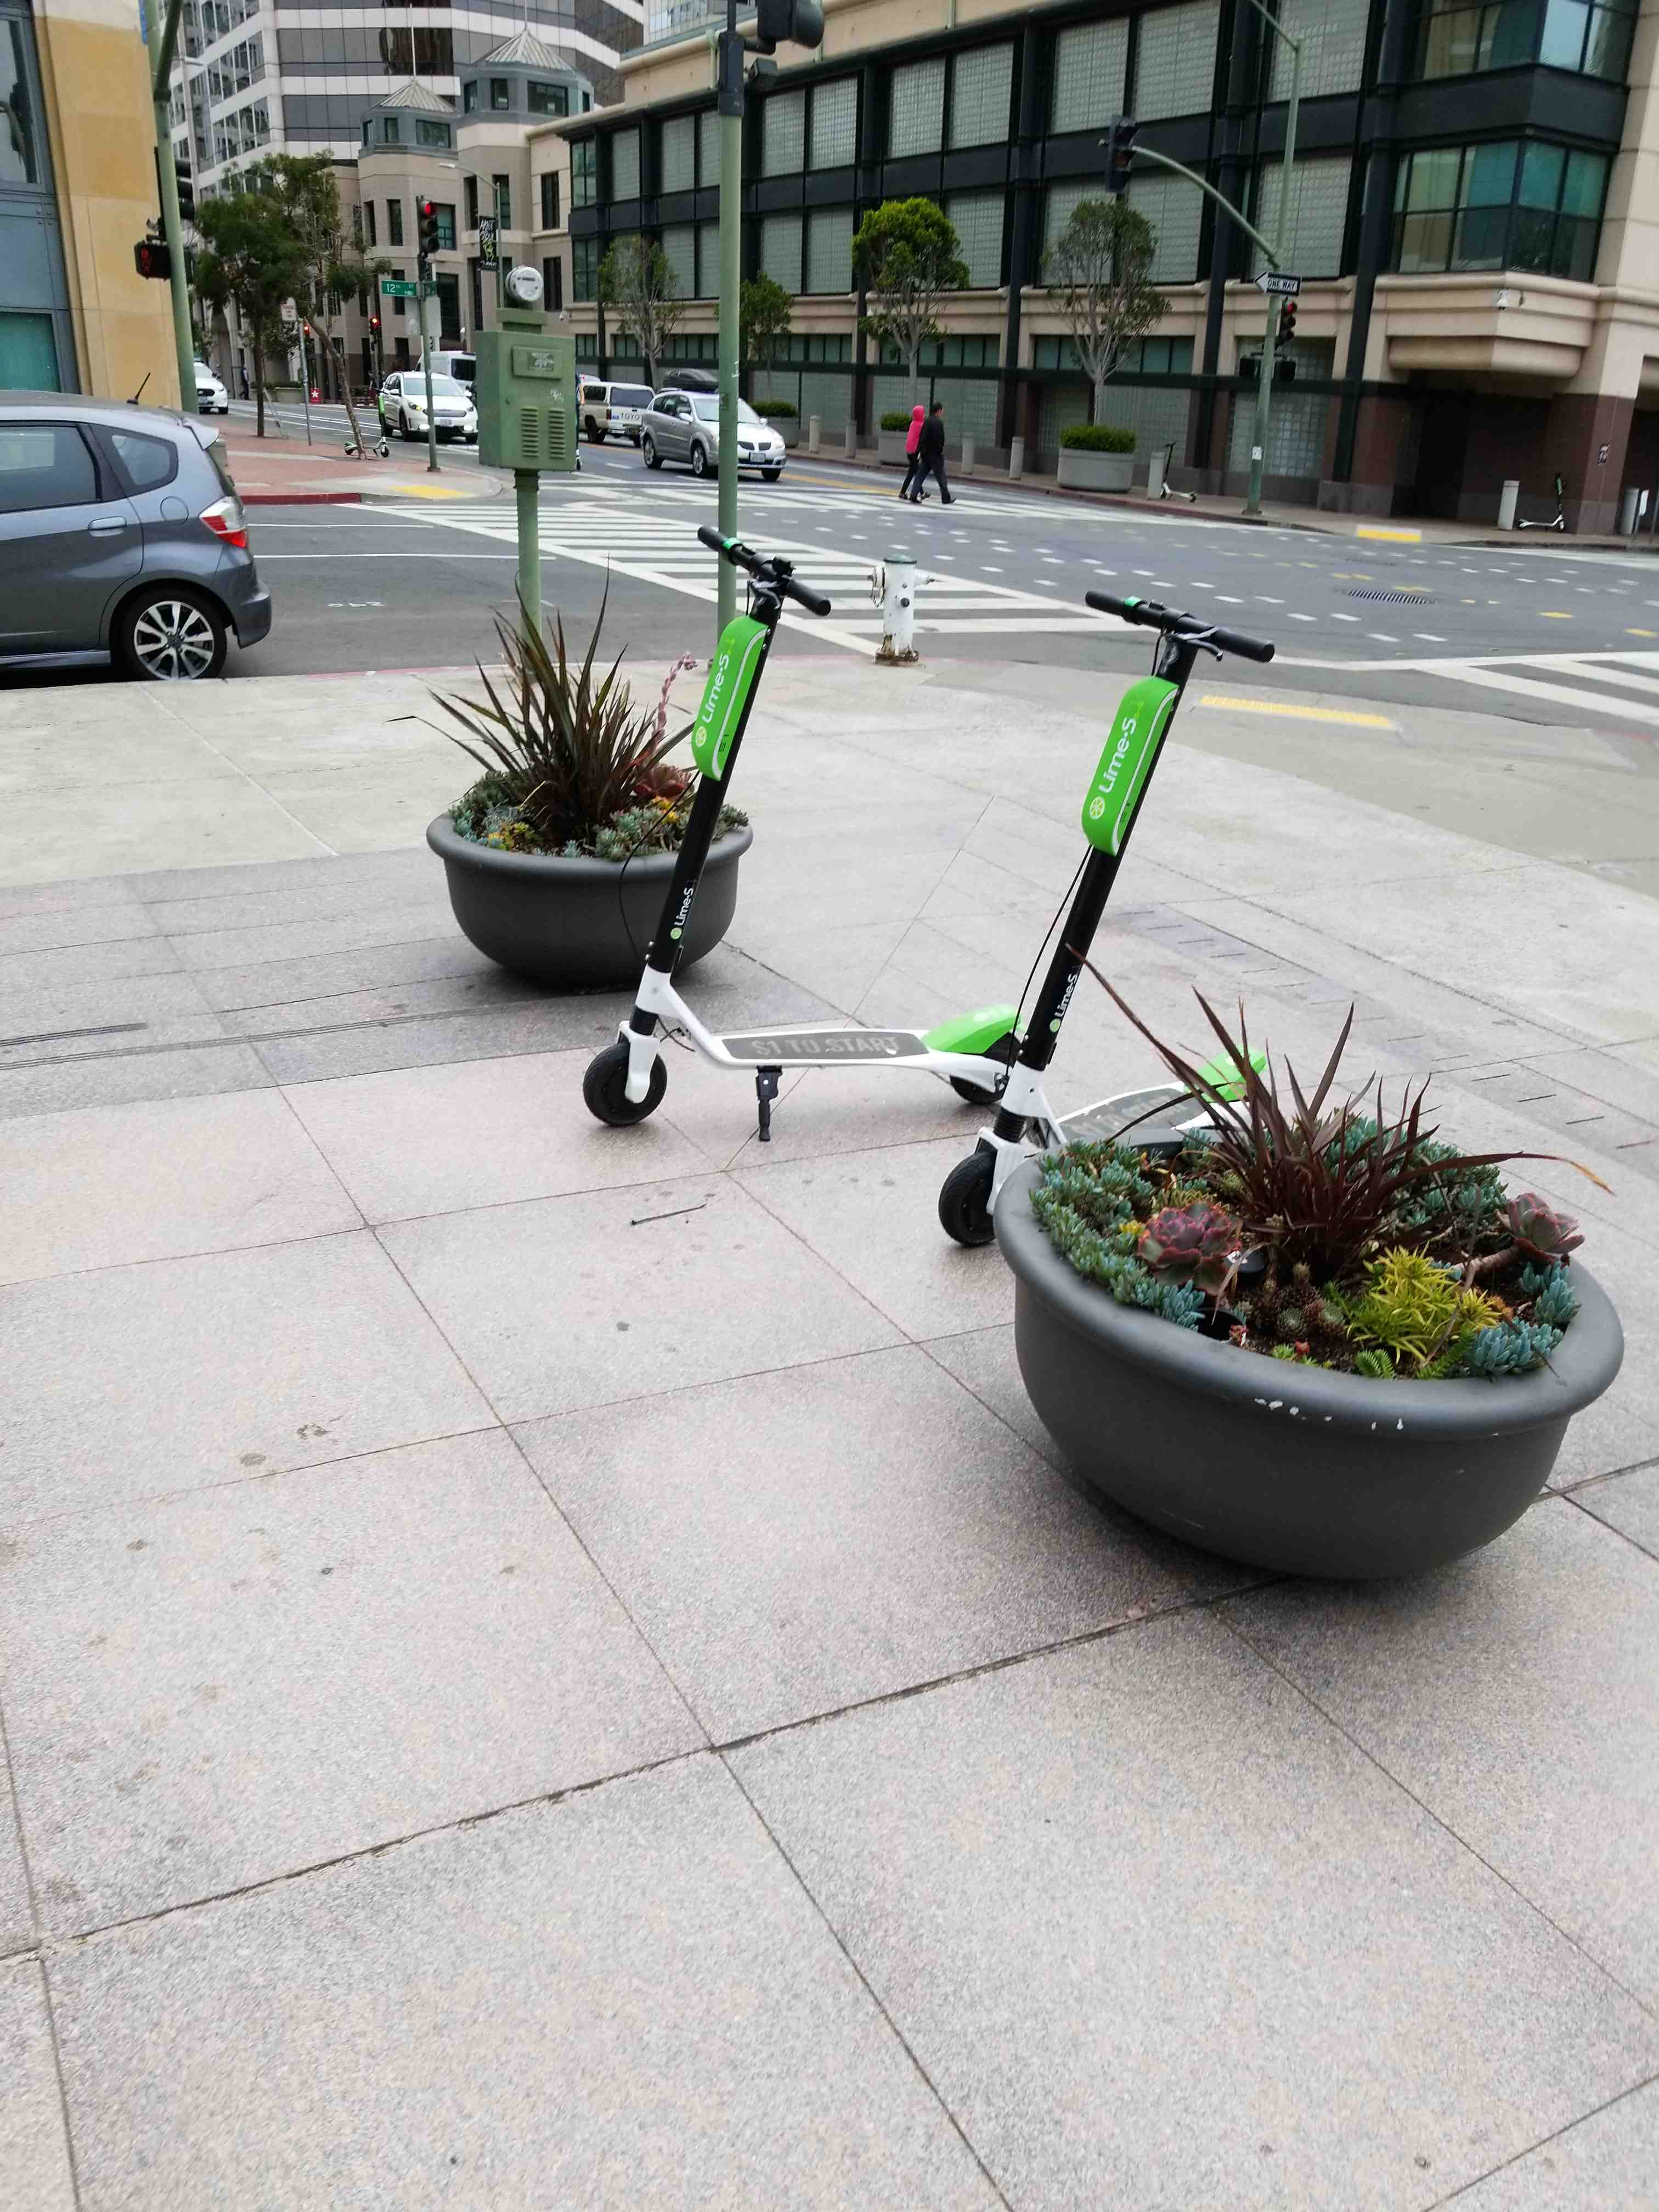scooter: (866, 590, 1342, 1289), (606, 582, 1143, 1170)
